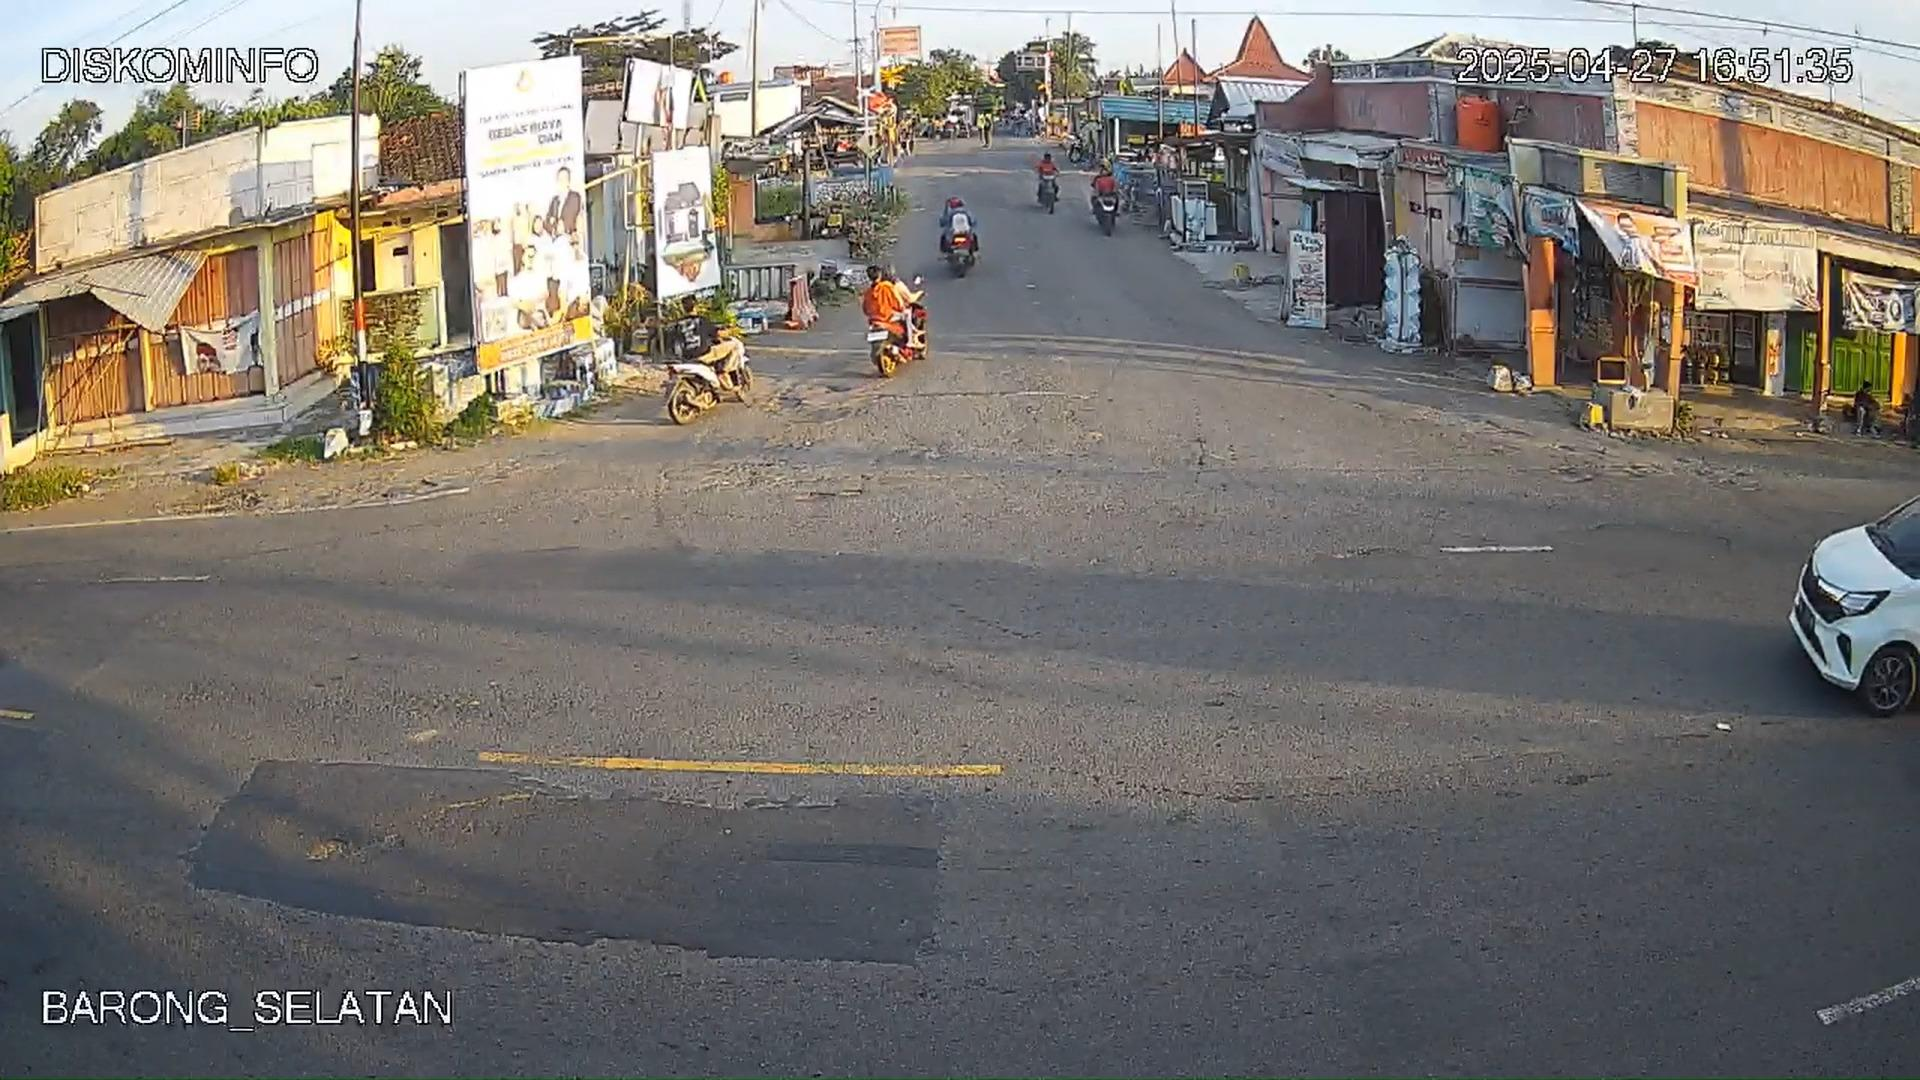Motor: (663, 323, 757, 427), (869, 295, 928, 380), (939, 211, 978, 278)
mobil: (1787, 488, 1919, 712)
